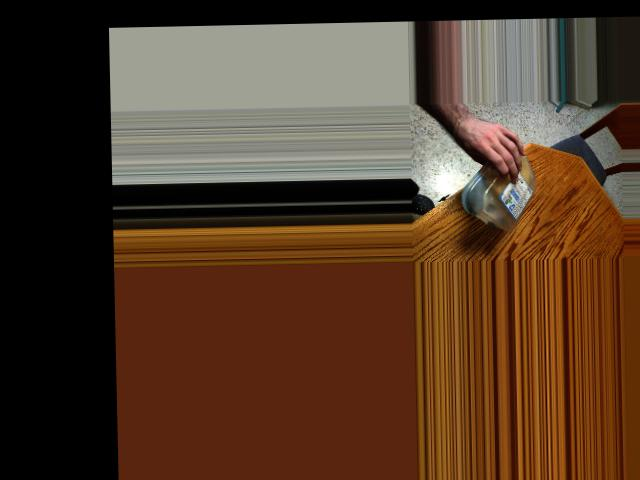cheese: (464, 135, 539, 233)
